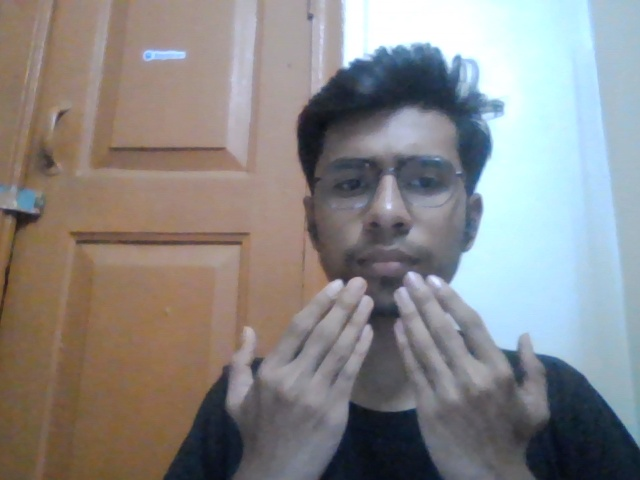ThankYou: (195, 267, 568, 480)
